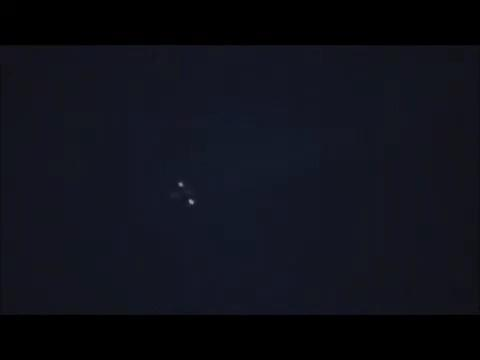Plane: (150, 169, 216, 216)
